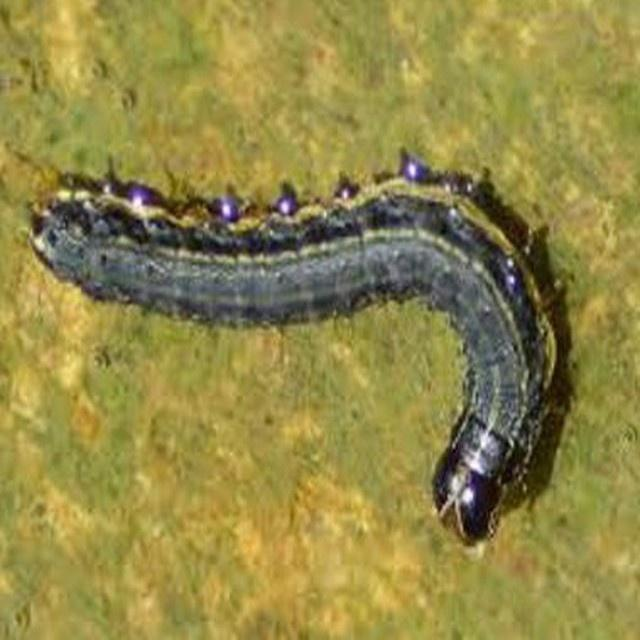gusano_cogollero: (29, 163, 562, 540)
